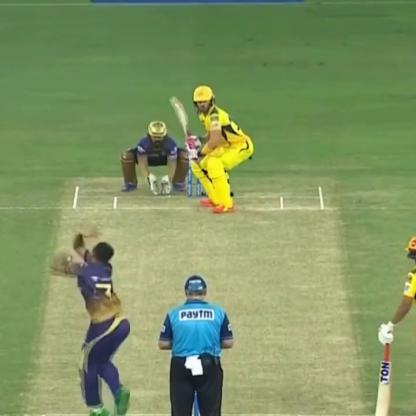ball: (58, 247, 77, 268)
bat: (167, 85, 200, 150)
pitch: (18, 180, 359, 416)
